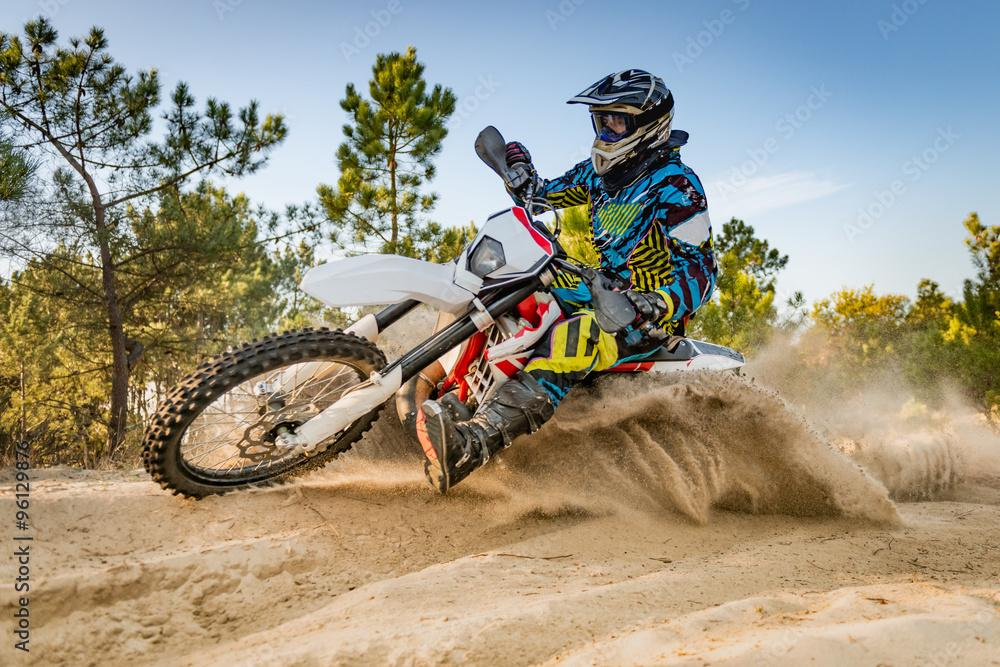helmet: (565, 68, 676, 178)
